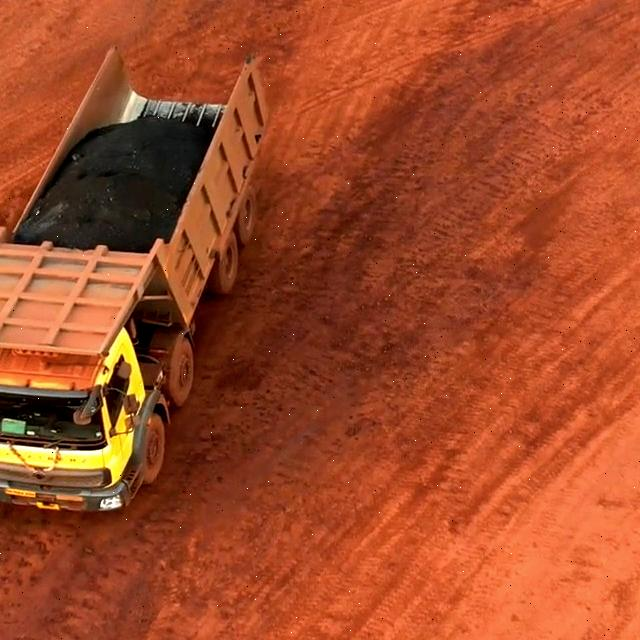Dumper truck: (0, 258, 157, 512)
